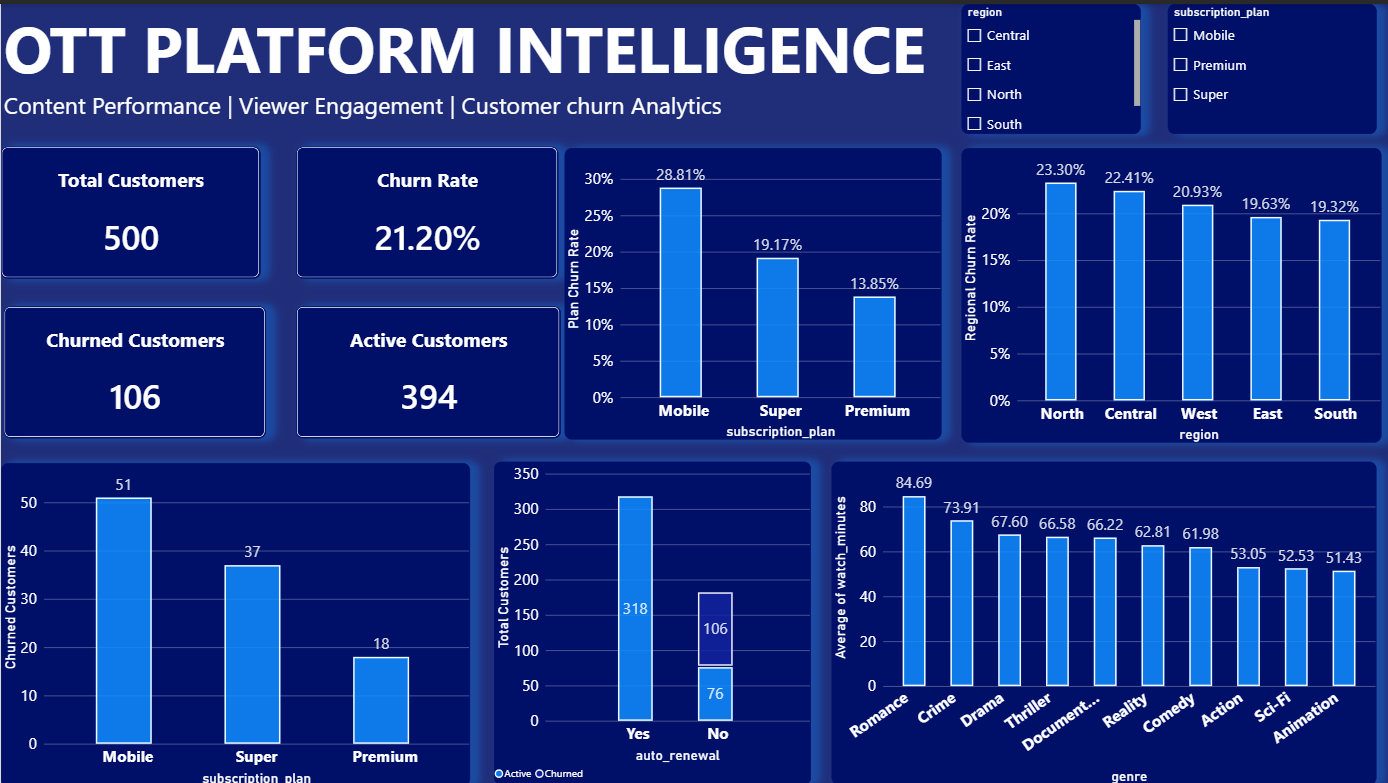

The dashboard page shown, as its layout file describes it:
{"tool":"powerbi","page":{"name":"Executive Overview","canvas":[1920,1080],"ordinal":0},"visuals":[{"type":"cardVisual","fields":{"Data":["Customers.Total Customers"]},"box":[0,197,358.8,182.9],"z":0},{"type":"cardVisual","fields":{"Data":["Customers.Churned Customers"]},"box":[4.8,417.7,362.3,182.9],"z":1000},{"type":"cardVisual","fields":{"Data":["Customers.Churn Rate"]},"box":[408.1,196.9,362.3,182.9],"z":2000},{"type":"cardVisual","fields":{"Data":["Customers.Active Customers"]},"box":[408.1,417.7,365.8,182.9],"z":3000},{"type":"textbox","box":[3.5,0,1290.9,161.8],"z":4000},{"type":"clusteredColumnChart","fields":{"Category":["Customers.subscription_plan"],"Y":["Customers.Churned Customers"]},"box":[0,633.8,648.2,446.6],"z":5000},{"type":"clusteredColumnChart","fields":{"Category":["Customers.region"],"Y":["Customers.Regional Churn Rate"]},"box":[1327.2,199.3,580.4,407.3],"z":6000},{"type":"clusteredColumnChart","fields":{"Category":["Content_Catalogue.genre"],"Y":["Avg(Viewing_Sessions.watch_minutes)"]},"box":[1147.6,632.9,753.4,446.8],"z":7000},{"type":"clusteredColumnChart","fields":{"Category":["Customers.subscription_plan"],"Y":["Customers.Plan Churn Rate"]},"box":[779.7,199.3,521.2,403],"z":8000},{"type":"slicer","fields":{"Values":["Customers.region"]},"box":[1327.2,0,247.5,179.6],"z":9000},{"type":"slicer","fields":{"Values":["Customers.subscription_plan"]},"box":[1611.9,0,289.1,179.6],"z":10000},{"type":"columnChart","fields":{"Category":["Customers.auto_renewal"],"Series":["Customers.churn_status"],"Y":["Customers.Total Customers"]},"box":[681.1,632.9,438,446.8],"z":11000}]}

Visuals, with their boxes in screenshot pixels (x1, y1, x2, y2), scaled from the page's 1920x1080 canvas onto the 1388x783 screenshot:
cardVisual - Customers.Total Customers: select_region(0, 143, 259, 275)
cardVisual - Customers.Churned Customers: select_region(3, 303, 265, 435)
cardVisual - Customers.Churn Rate: select_region(295, 143, 557, 275)
cardVisual - Customers.Active Customers: select_region(295, 303, 559, 435)
textbox: select_region(3, 0, 936, 117)
clusteredColumnChart - Customers.subscription_plan x Customers.Churned Customers: select_region(0, 460, 469, 782)
clusteredColumnChart - Customers.region x Customers.Regional Churn Rate: select_region(959, 144, 1379, 440)
clusteredColumnChart - Content_Catalogue.genre x Avg(Viewing_Sessions.watch_minutes): select_region(830, 459, 1374, 782)
clusteredColumnChart - Customers.subscription_plan x Customers.Plan Churn Rate: select_region(564, 144, 940, 437)
slicer - Customers.region: select_region(959, 0, 1138, 130)
slicer - Customers.subscription_plan: select_region(1165, 0, 1374, 130)
columnChart - Customers.auto_renewal x Customers.churn_status: select_region(492, 459, 809, 782)
